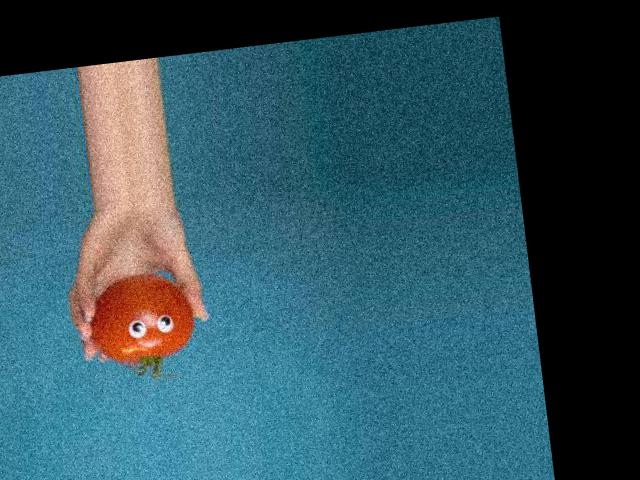tomato: (85, 268, 200, 369)
